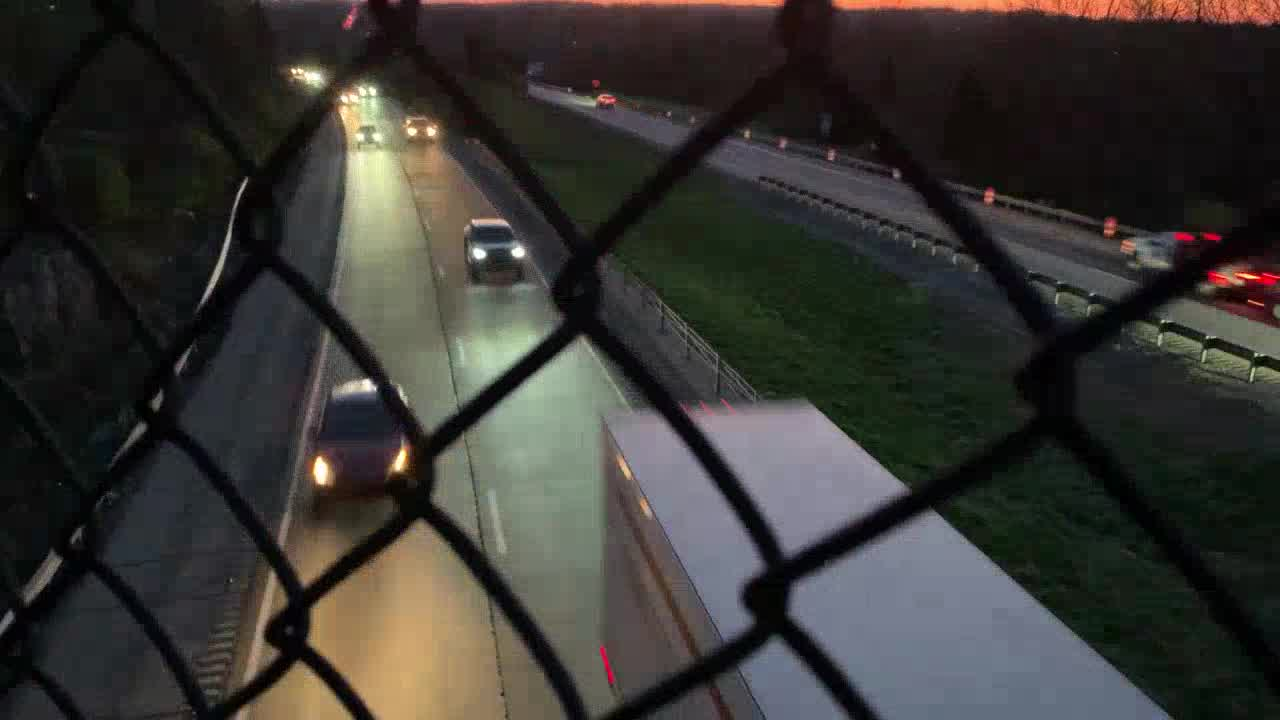heavyTruck: (588, 406, 1186, 720), (1115, 228, 1280, 325)
largeCar: (454, 215, 533, 283), (401, 118, 441, 144)
smallCar: (312, 382, 416, 508), (348, 125, 387, 149)
